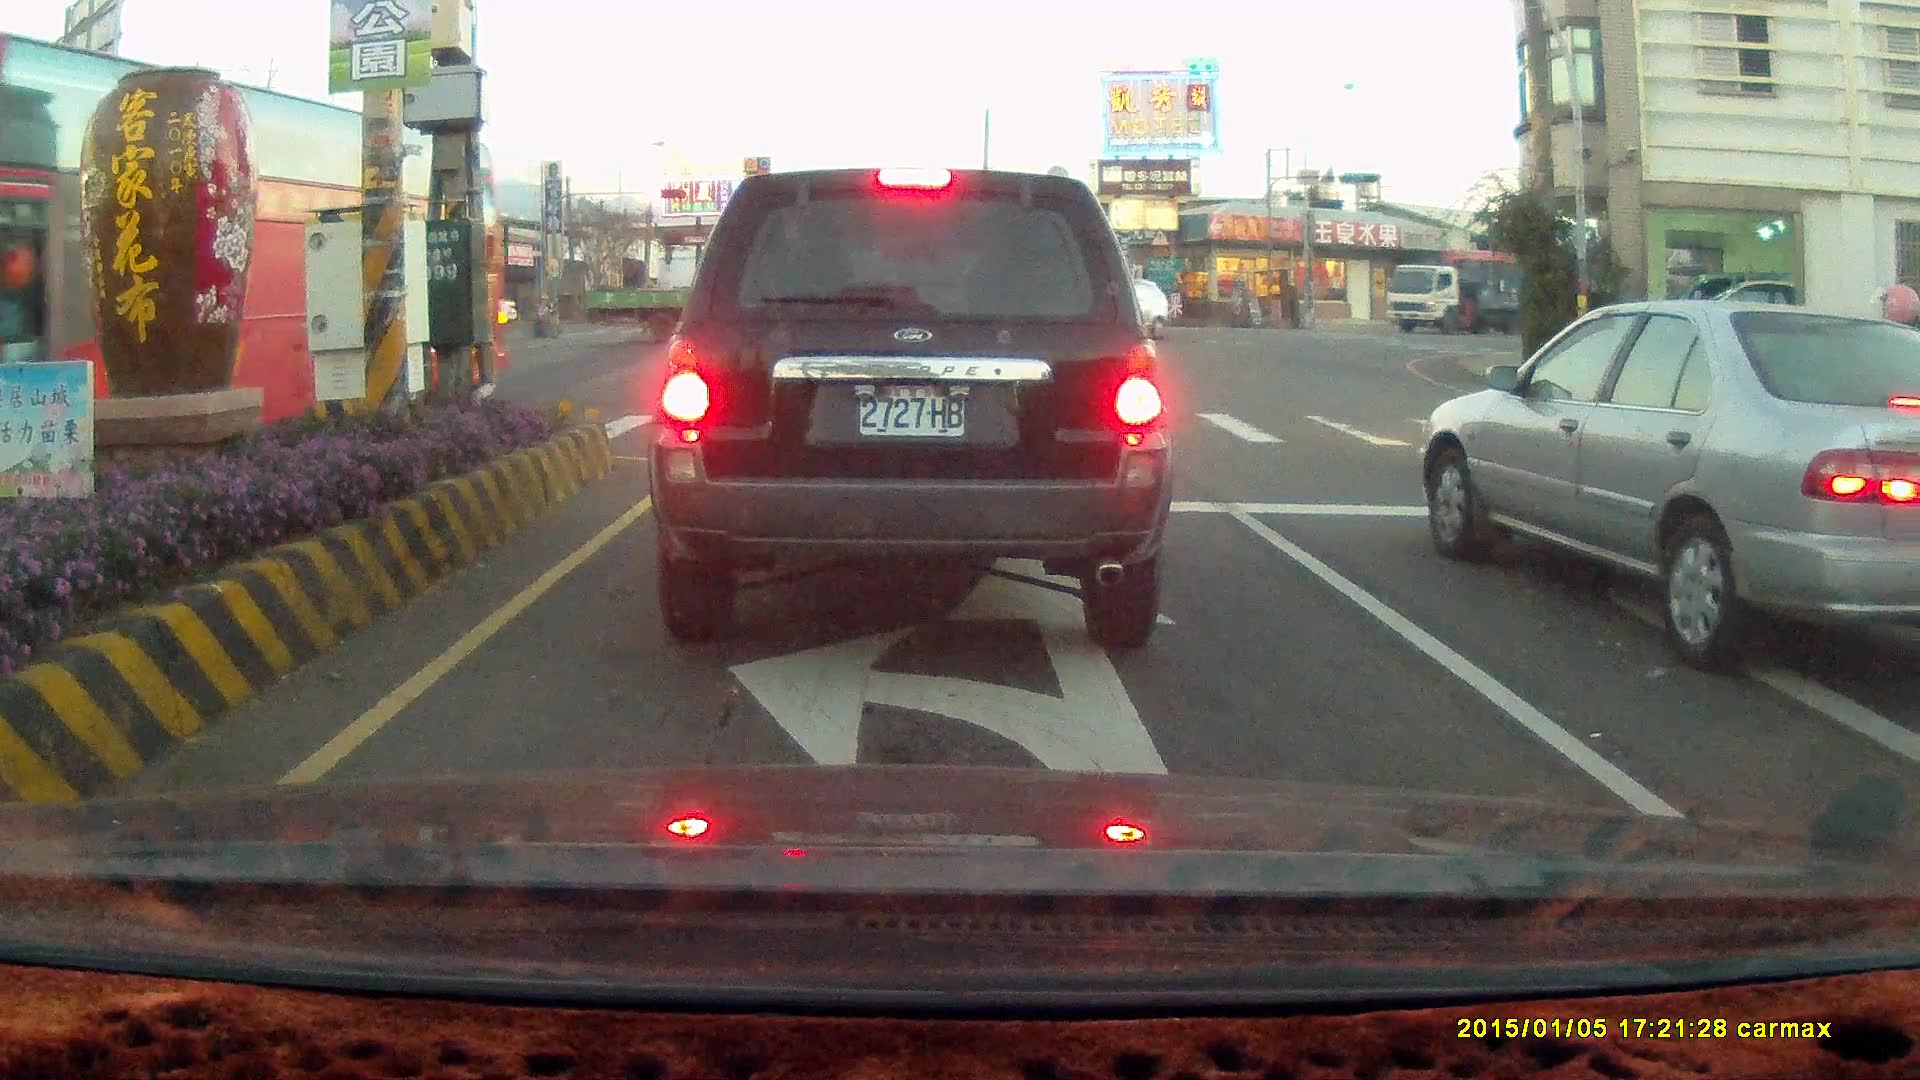rider: (528, 289, 560, 337)
vehicle: (643, 164, 1175, 655), (1414, 295, 1920, 677), (1436, 301, 1920, 686), (578, 254, 840, 345), (1644, 275, 1787, 358), (1383, 258, 1525, 336), (1896, 493, 1920, 836), (1082, 277, 1177, 343)
